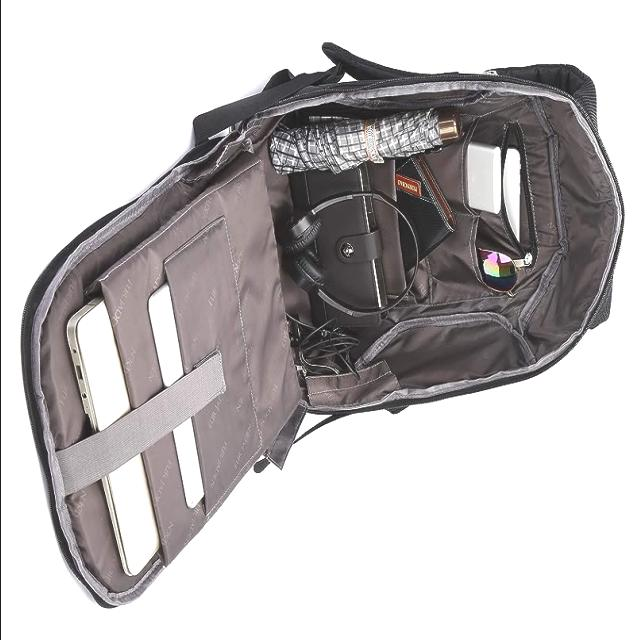backpack: (21, 44, 627, 610)
